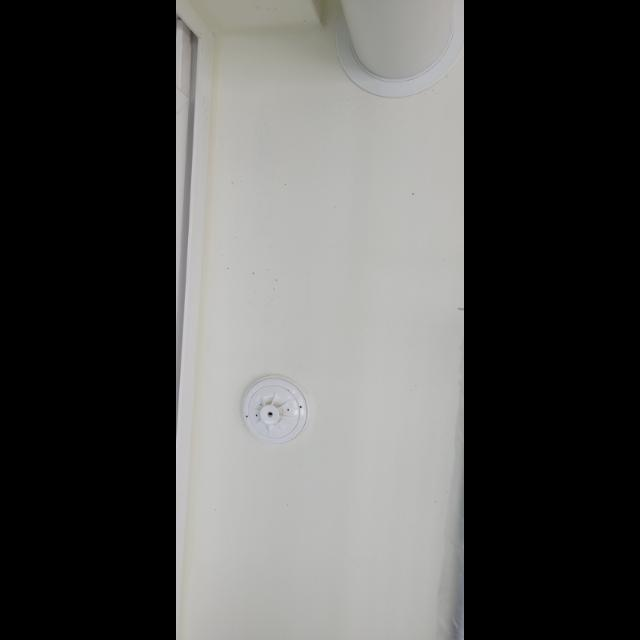Smoke-Detector: (244, 379, 308, 447)
